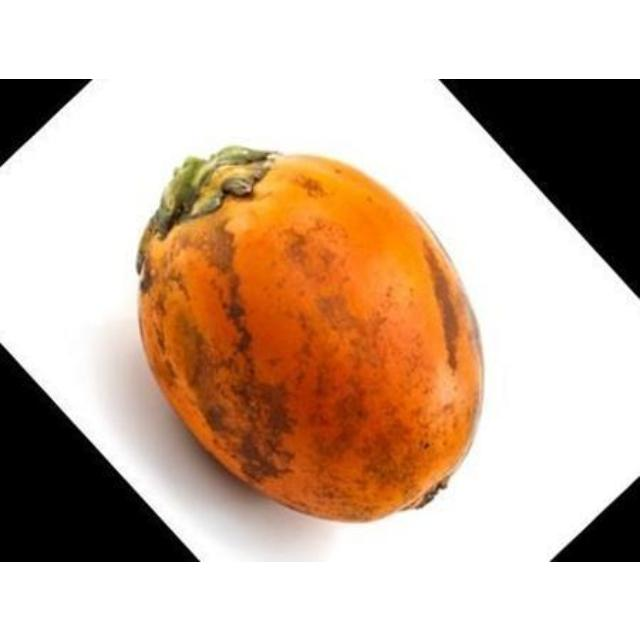good: (135, 145, 486, 525)
